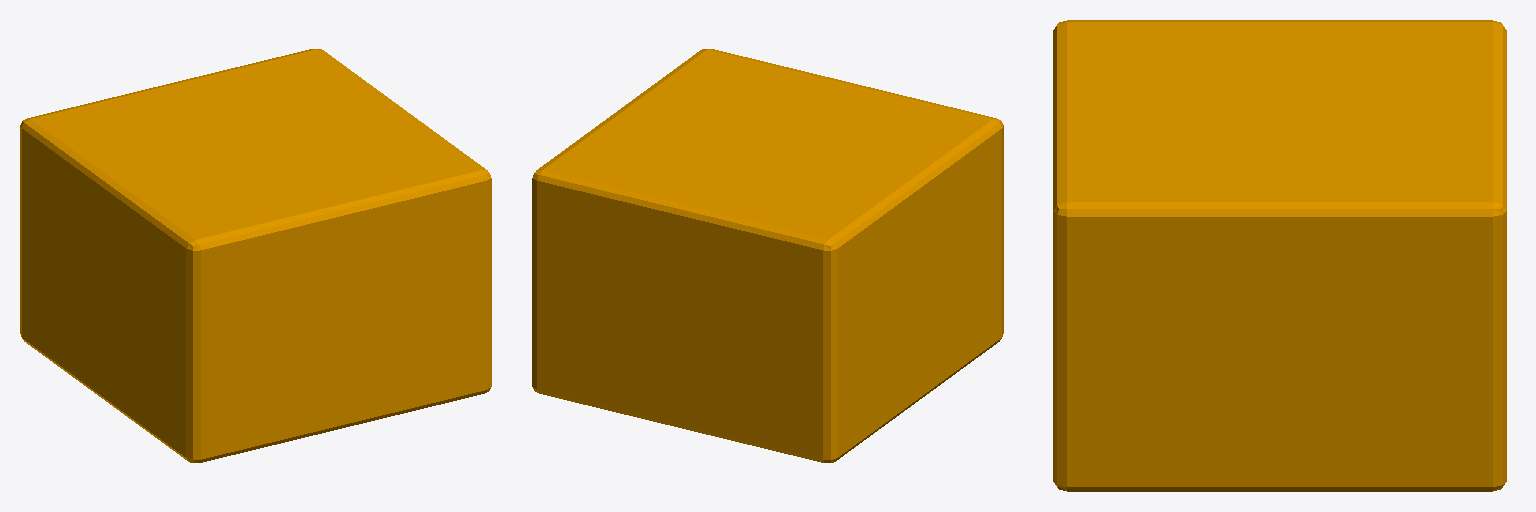
The robot description file, URDF, robot "object":
<?xml version="1.0"?>
<robot name="object">
  <link name="object">
    <visual>
      <origin xyz="0 0 0"/>
      <geometry>
        <mesh filename="yellow_cube.obj" scale="1 1 0.7"/>
      </geometry>
    </visual>
    <collision>
      <origin xyz="0 0 0"/>
      <geometry>
        <mesh filename="yellow_cube.obj" scale="1 1 0.7"/>
      </geometry>
    </collision>

  </link>
</robot>

--- What the picture shows (computed from the rendered views, not written in the file) ---
3 views of the same robot in one strip: view 1: azimuth 30°, elevation 25°; view 2: azimuth 150°, elevation 25°; view 3: azimuth 270°, elevation 25° (orthographic).
Robot: object — 1 links, 0 joints (none); root link object; default pose: all joints at 0.
Visible links, largest first — view 1: object; view 2: object; view 3: object.
Link boxes in pixels (x1,y1,x2,y2): object: (20, 49, 491, 462); object: (532, 49, 1003, 462); object: (1053, 20, 1506, 491).
Bounding box of the posed robot: 2 × 2 × 1.4 m (x, y, z).
1 mesh visuals loaded from 1 distinct referenced files (1 OBJ).
